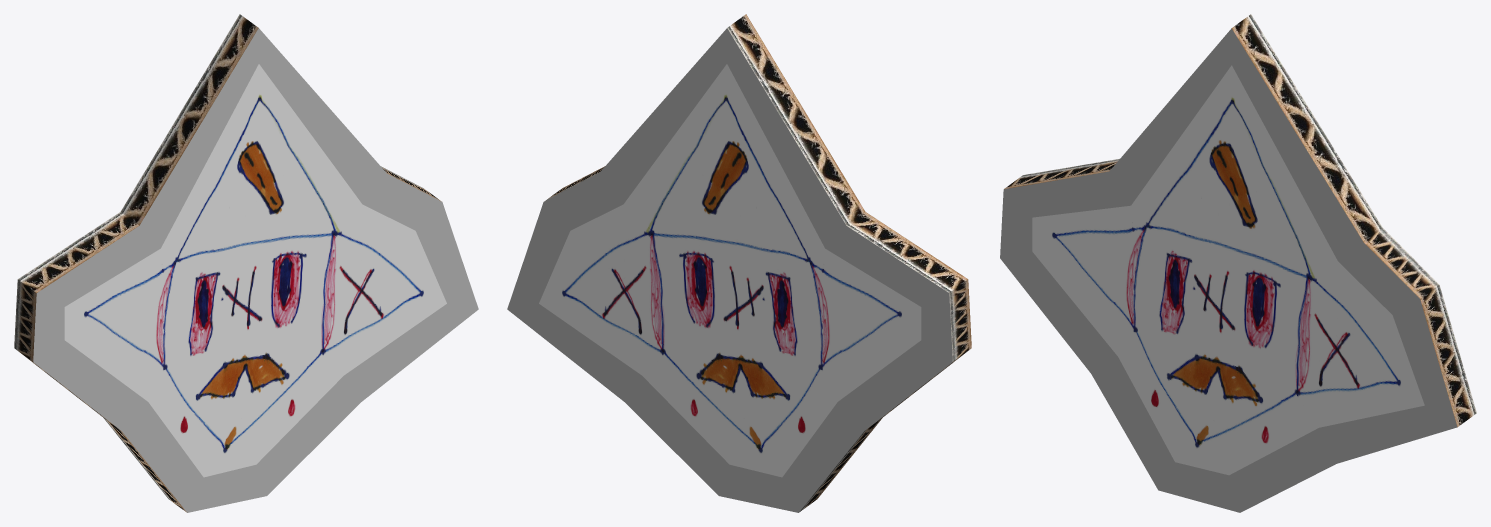
The model's file is ViiksiVallu.fbx.
The picture shows the model from 3 angles, left to right: view 1: azimuth 30°, elevation 25°; view 2: azimuth 150°, elevation 25°; view 3: azimuth 330°, elevation 25°; orthographic projection. The views are drawn at different scales.
Parts seen in each view (by area): view 1: ViiksiVallu; view 2: ViiksiVallu; view 3: ViiksiVallu.
Part boxes in pixels (x1=…): ViiksiVallu: x1=14, y1=14, x2=478, y2=512; ViiksiVallu: x1=507, y1=14, x2=971, y2=512; ViiksiVallu: x1=1000, y1=14, x2=1476, y2=512.
Bounding box in the file's own units: 233 × 235 × 17.21.
